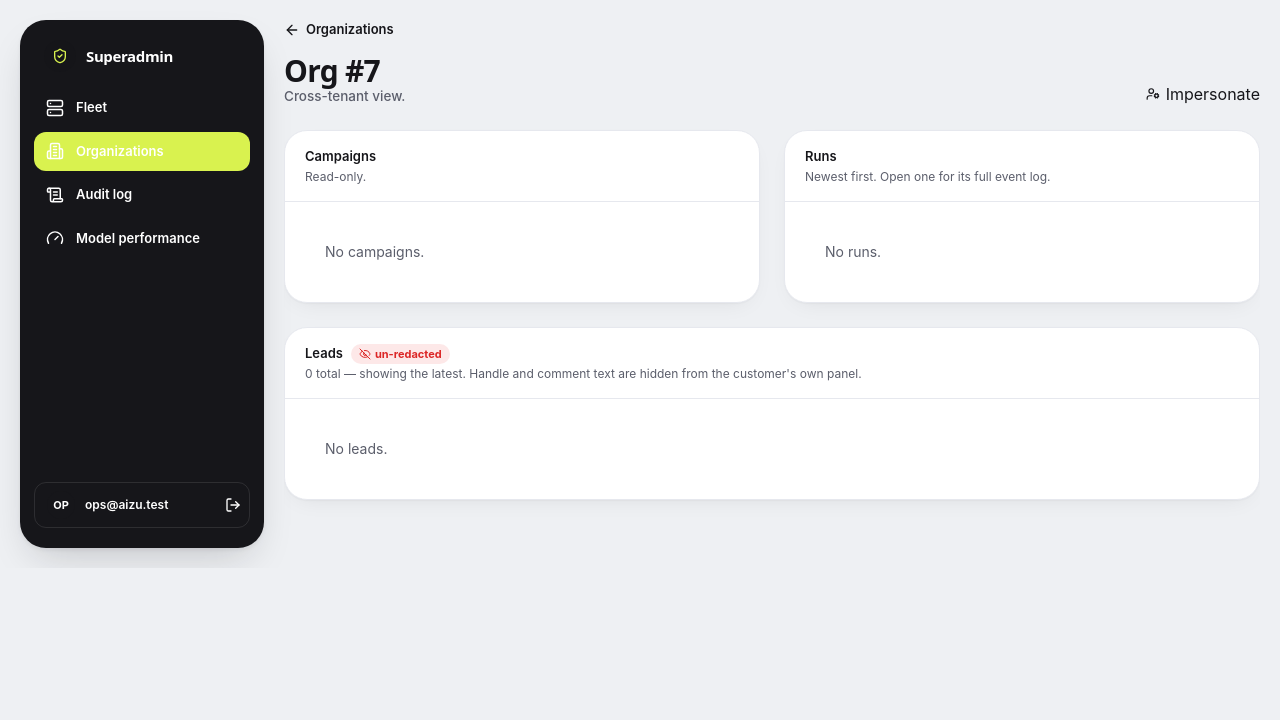
Scenario: organizations + impersonation › lists orgs and starts a reason-gated impersonation with a visible banner
The width and height of the screenshot is (1280, 720).
Step 1. Click the button "Impersonate" → (1203, 94), box [1146,82,1260,106]
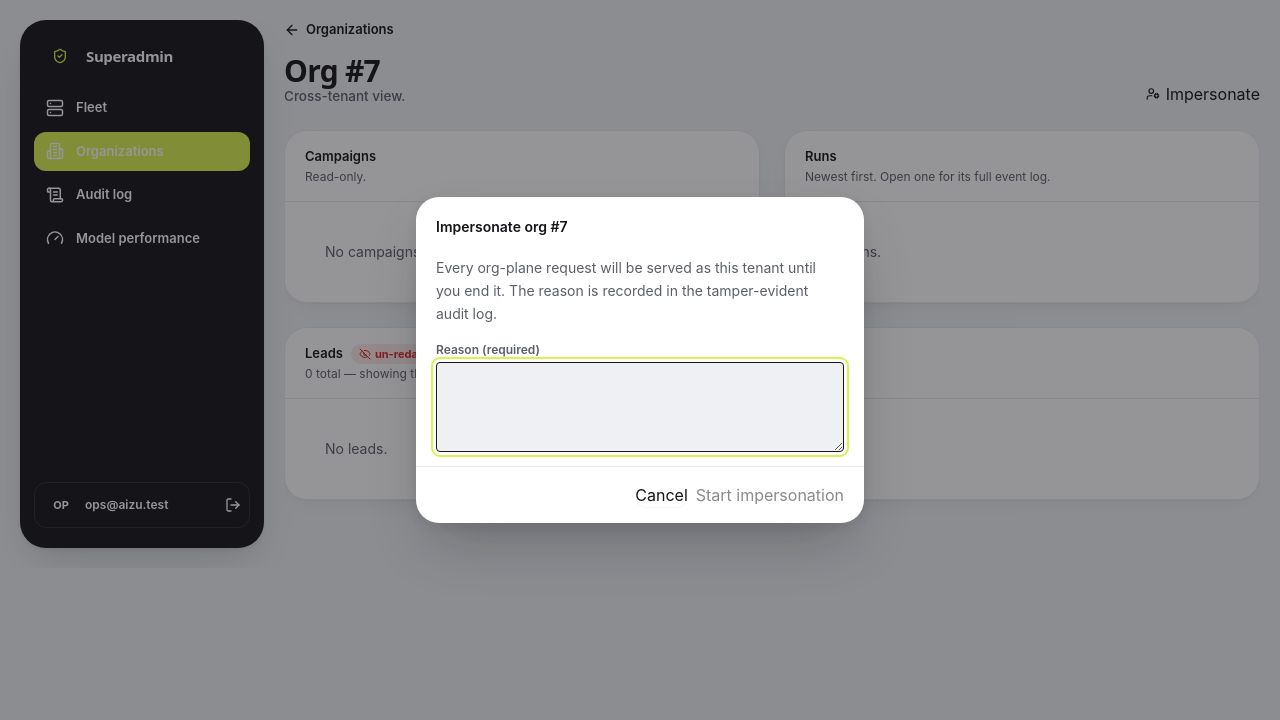
Step 2. Type "support ticket 91" into the text box labelled "Reason (required)" → (640, 407), box [436,362,844,452]
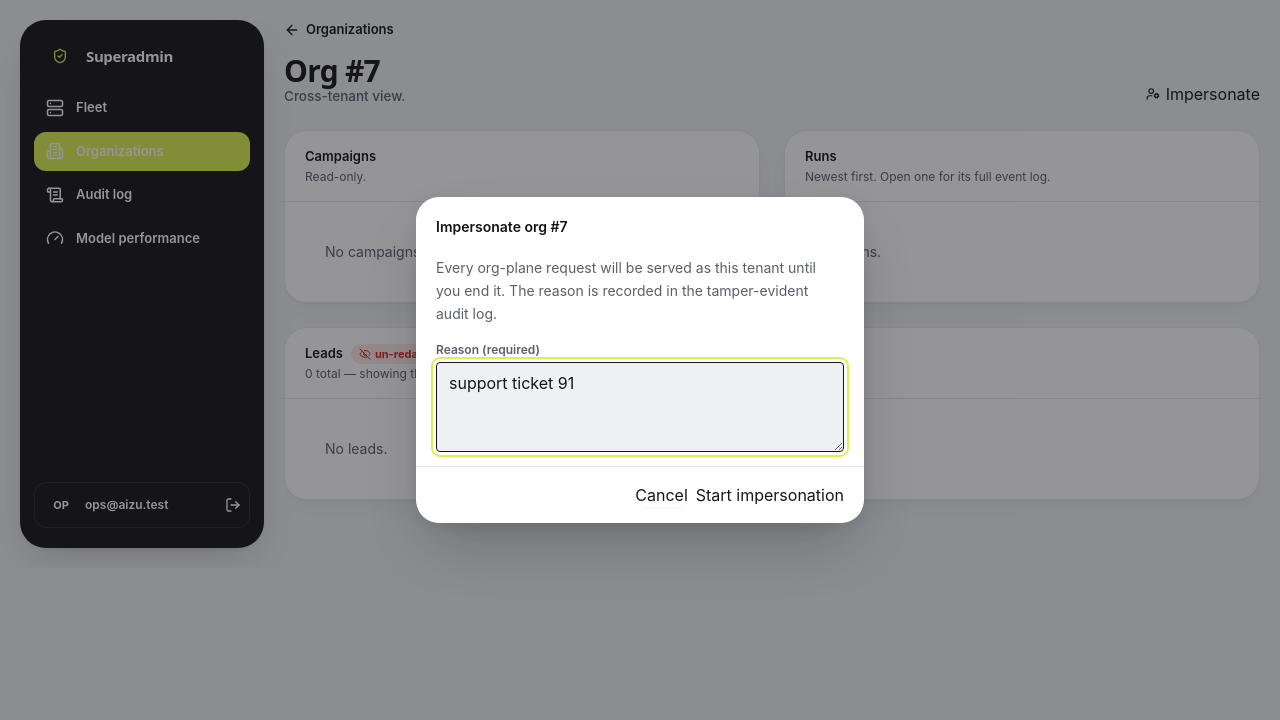
Step 3. Click the button "Start impersonation" → (770, 495), box [696,483,844,507]
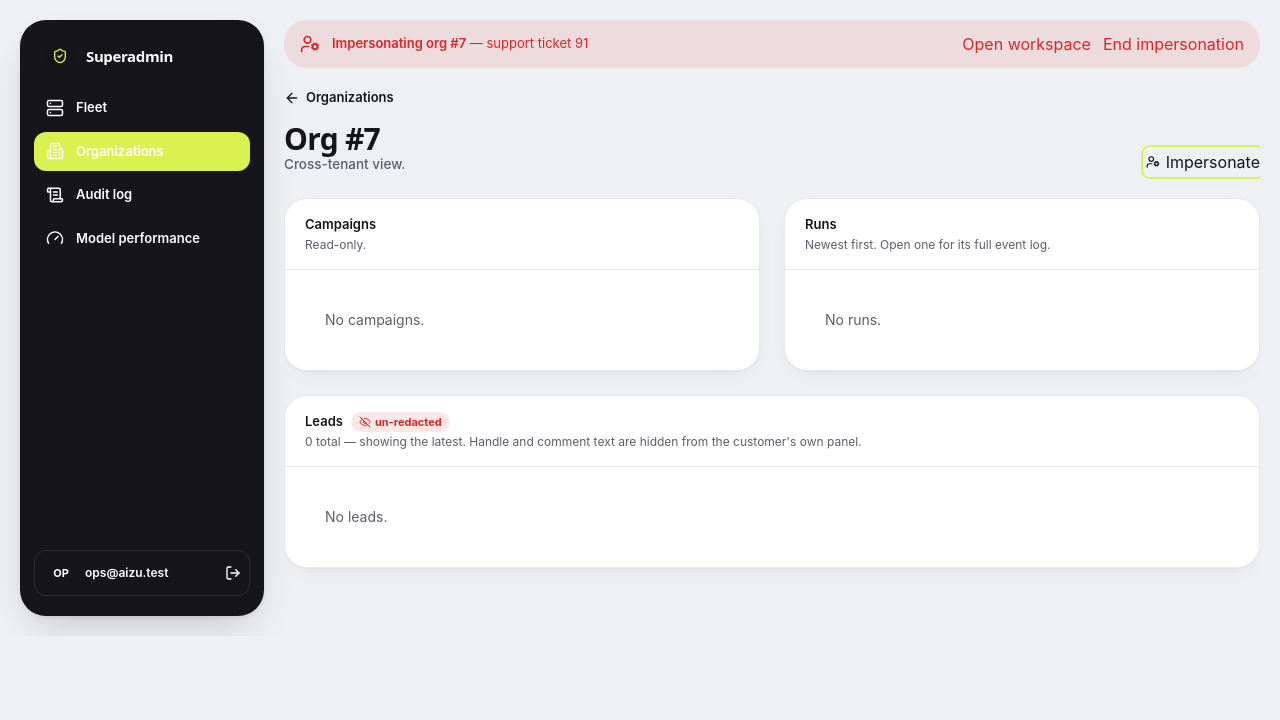
expect the text "Impersonating org #7 — support ticket 91" is shown: met, box [332,35,588,51]
